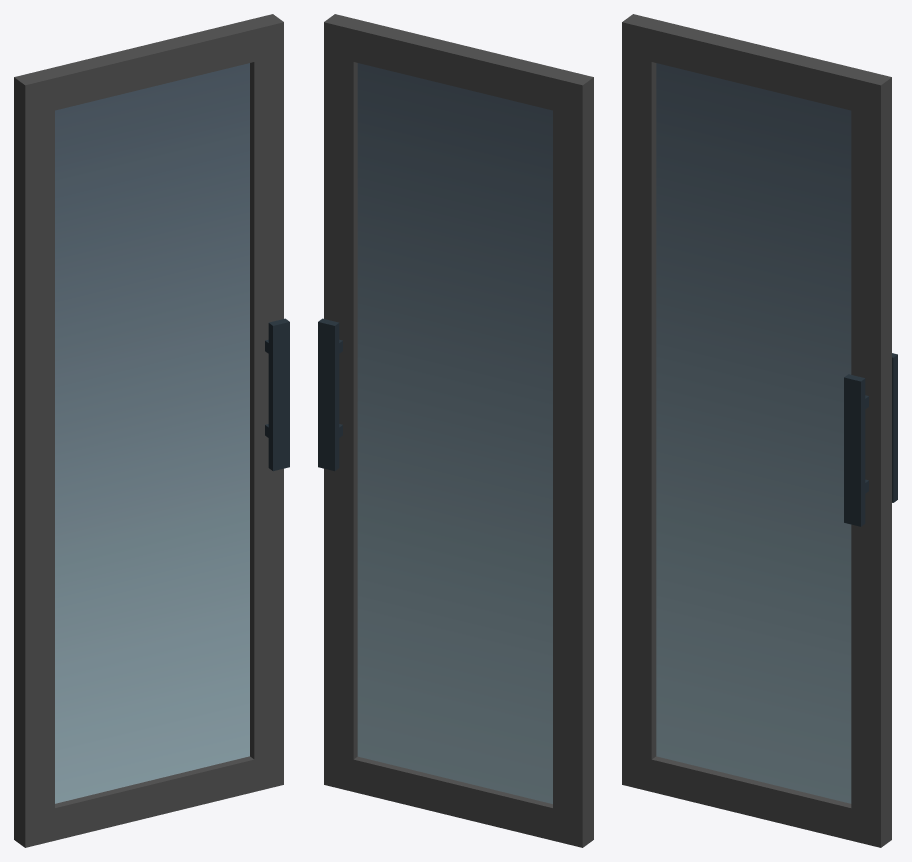
Rendered from SM_Buildings_House_15_Door_L.fbx.
3 renders of one model, left to right at view 1: azimuth 30°, elevation 25°; view 2: azimuth 150°, elevation 25°; view 3: azimuth 330°, elevation 25°, orthographic.
Parts seen in each view (by area): view 1: SM_Buildings_House_15_Door_L; view 2: SM_Buildings_House_15_Door_L; view 3: SM_Buildings_House_15_Door_L.
Part boxes in pixels (left/top/right/bottom): SM_Buildings_House_15_Door_L: left=14, top=14, right=289, bottom=847; SM_Buildings_House_15_Door_L: left=318, top=14, right=593, bottom=847; SM_Buildings_House_15_Door_L: left=622, top=14, right=897, bottom=847.
Size of the model in its own units: 0.7481 by 2.11 by 0.1853.
